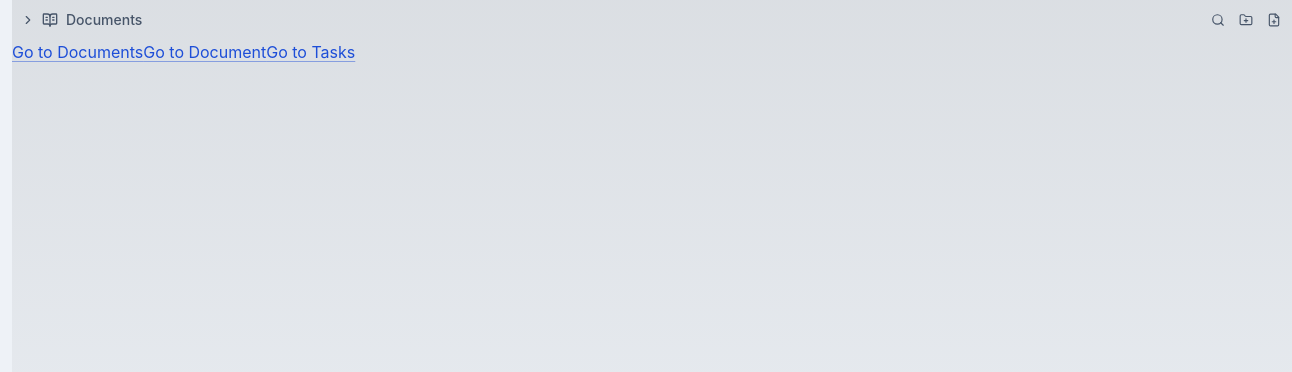
DocumentsSidebarSection › auto-expands the Documents tree when navigating back into Documents
Expected: the button named "Expand Documents" is shown, x1=18 y1=10 x2=38 y2=30
Expected: the text "ProjectInfo" is not shown
Click the link "Go to Documents". click: (78, 52)
box: x1=12 y1=42 x2=143 y2=62
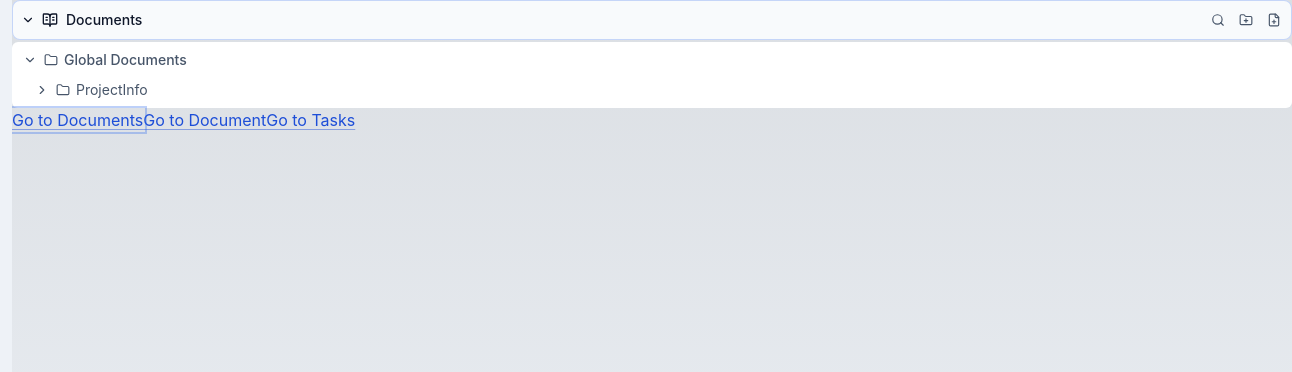
Expected: the button named "Collapse Documents" is shown, x1=18 y1=10 x2=38 y2=30
Expected: the text "ProjectInfo" is shown, x1=76 y1=81 x2=148 y2=98
